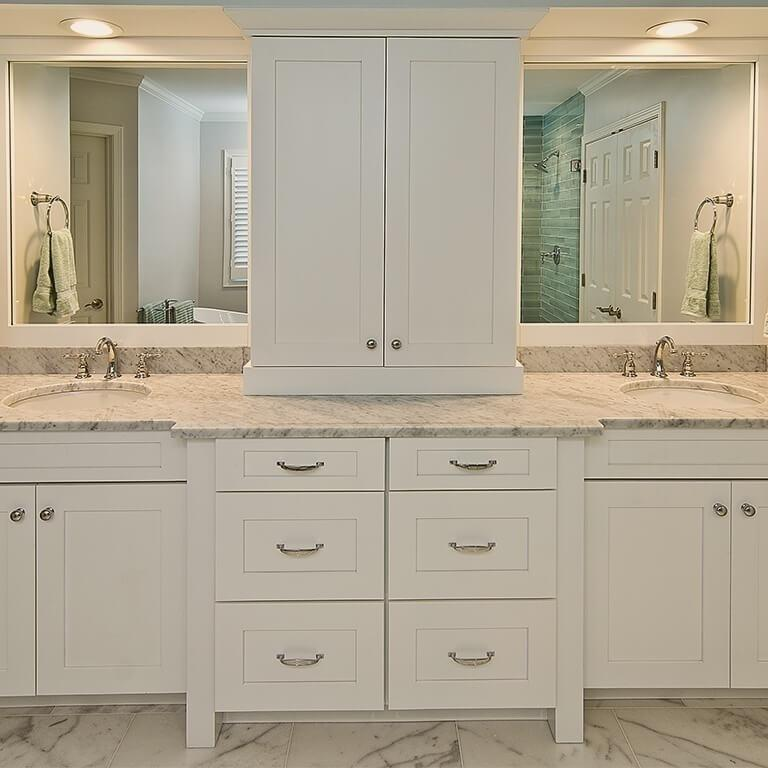cabinet_door: (389, 46, 521, 360), (259, 47, 388, 367), (41, 481, 189, 685), (589, 480, 734, 677), (218, 607, 386, 709), (390, 605, 557, 706), (386, 496, 552, 591), (214, 503, 382, 595), (395, 438, 554, 485), (0, 496, 34, 689), (733, 497, 767, 682), (230, 446, 381, 486)
handle: (273, 647, 324, 670), (273, 538, 325, 560), (447, 647, 497, 669), (445, 537, 497, 558), (273, 456, 326, 476), (445, 454, 498, 474), (379, 749, 425, 767), (742, 498, 762, 523), (711, 497, 730, 523), (8, 504, 26, 530), (39, 502, 57, 527), (365, 334, 382, 355), (388, 333, 403, 353)
